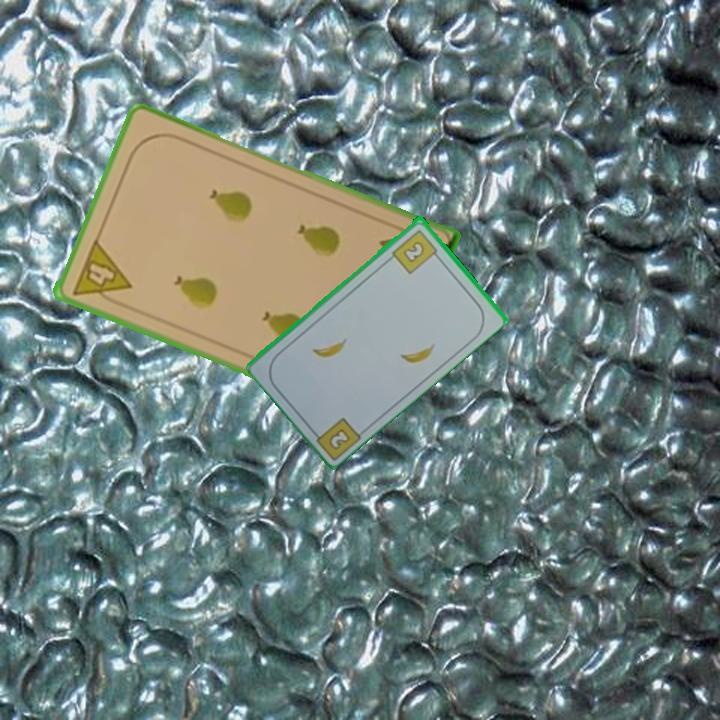2b: (388, 225, 443, 276), (307, 413, 364, 461)
4p: (68, 235, 134, 310)
